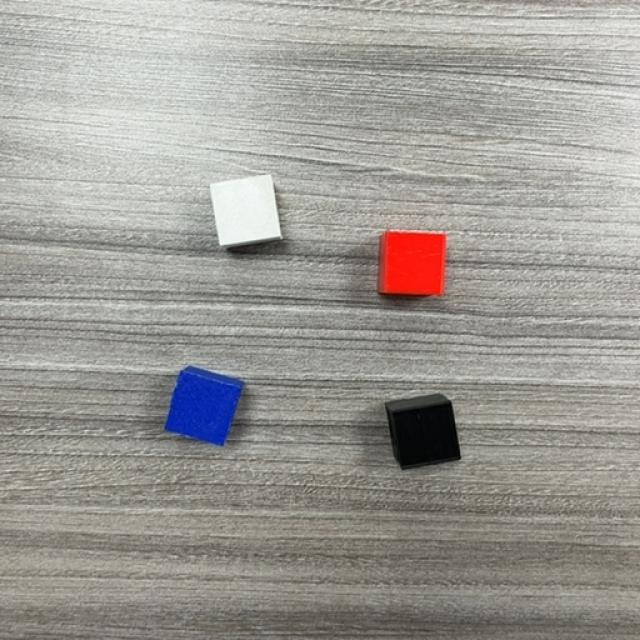Azul: (161, 372, 242, 448)
Blanco: (208, 176, 283, 248)
Negro: (388, 401, 462, 471)
Rojo: (375, 231, 446, 300)
